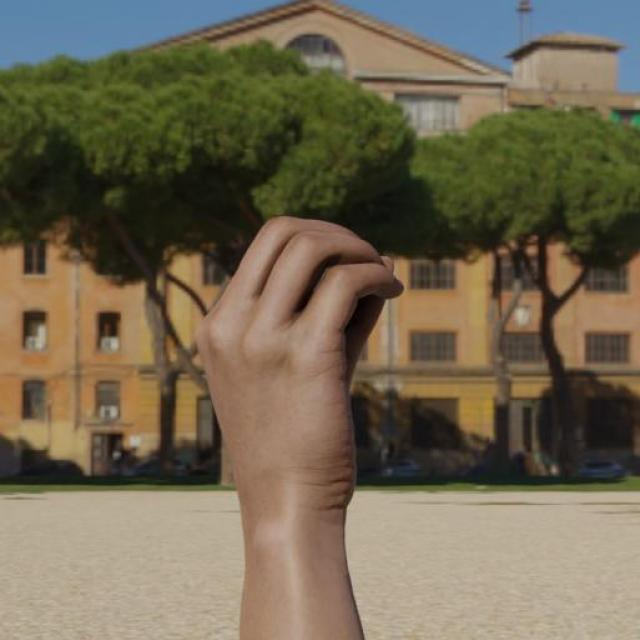O: (192, 214, 408, 526)
